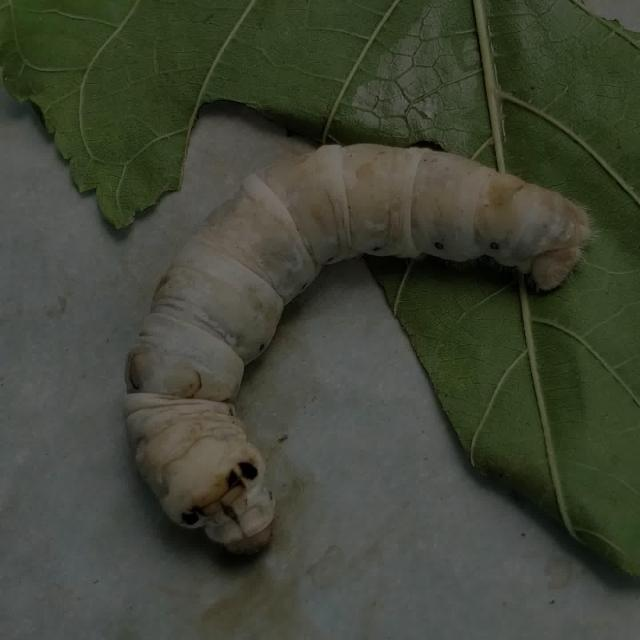Grasserie: (109, 120, 604, 572)
